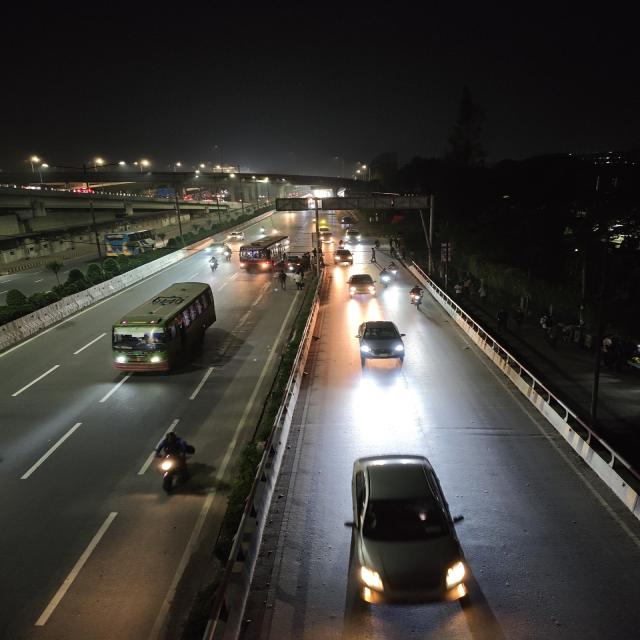bus: (108, 280, 218, 378), (237, 233, 290, 275), (102, 230, 162, 258)
car: (341, 450, 479, 616), (354, 318, 406, 367), (346, 271, 374, 303), (343, 227, 365, 247), (333, 248, 355, 266), (204, 240, 230, 253), (225, 230, 245, 241), (320, 232, 332, 242)
cng: (285, 254, 302, 273)
motorcycle: (143, 429, 208, 497), (403, 284, 427, 310), (379, 268, 391, 289), (208, 256, 219, 272), (390, 261, 399, 279), (222, 247, 234, 260), (256, 224, 267, 235), (272, 227, 279, 237)
pedestrian: (290, 272, 307, 294), (273, 271, 288, 291), (367, 246, 379, 264), (387, 244, 396, 258), (371, 239, 384, 248)
